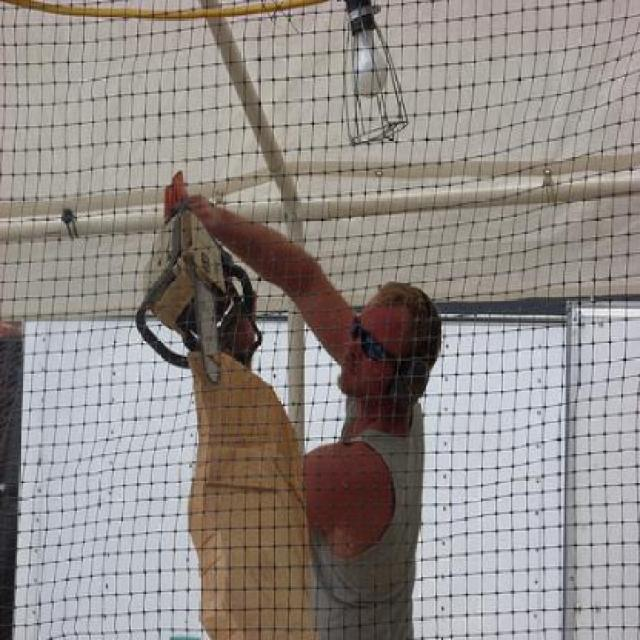Chainsaw: (137, 172, 266, 382)
